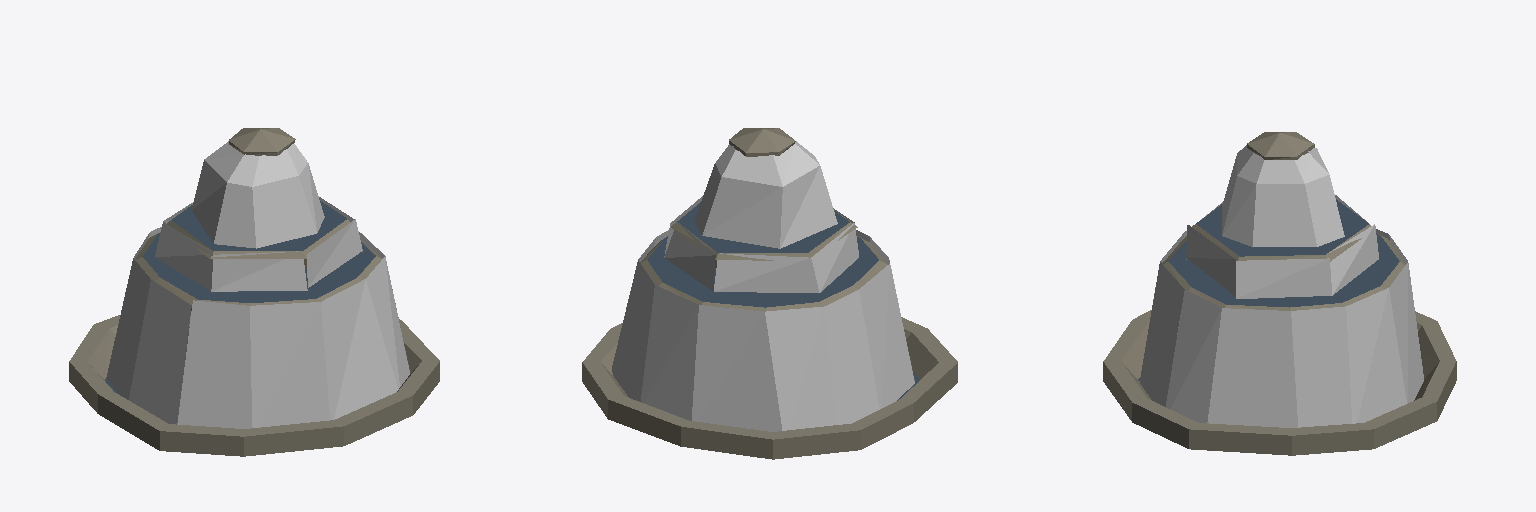
File: fountain.obj
The picture shows the model from 3 angles: view 1: azimuth 30°, elevation 25°; view 2: azimuth 150°, elevation 25°; view 3: azimuth 270°, elevation 25°; orthographic projection.
Size of the model in its own units: 254 by 201 by 256.